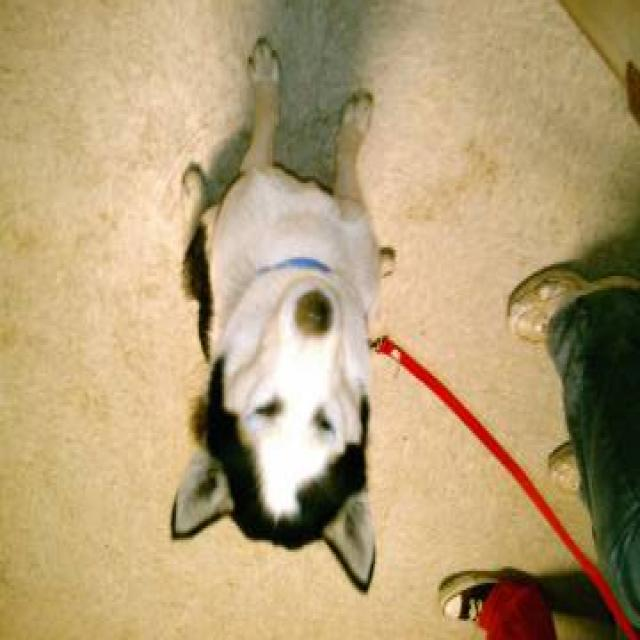dog: (146, 29, 408, 605)
